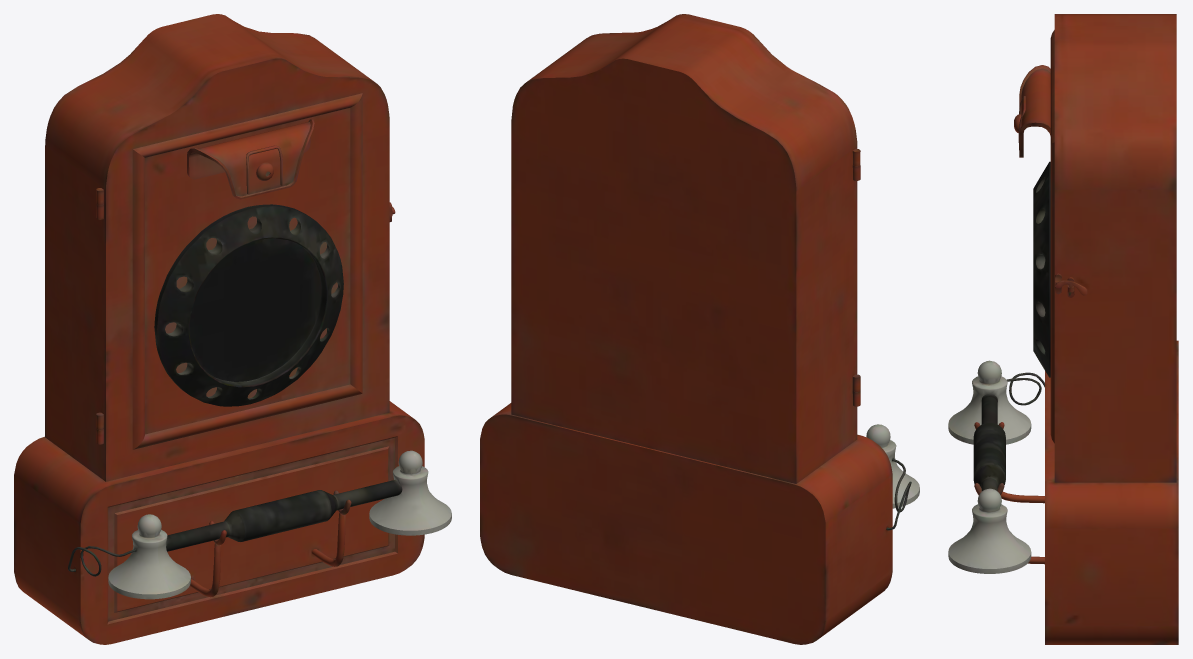
The model's file is vintage_telephone_wall_clock.d47f94c9.glb.
3 views of the same model, side by side, from view 1: azimuth 30°, elevation 25°; view 2: azimuth 150°, elevation 25°; view 3: azimuth 270°, elevation 25° (orthographic).
Visible parts, largest first — view 1: vintage_telephone_wall_clock; view 2: vintage_telephone_wall_clock; view 3: vintage_telephone_wall_clock.
Part boxes in pixels (left/top/right/bottom): vintage_telephone_wall_clock: left=14, top=14, right=451, bottom=644; vintage_telephone_wall_clock: left=480, top=14, right=919, bottom=644; vintage_telephone_wall_clock: left=948, top=14, right=1178, bottom=644.
Bounding box in the file's own units: 0.6839 × 1 × 0.3842.
2 materials, 2 textured.
